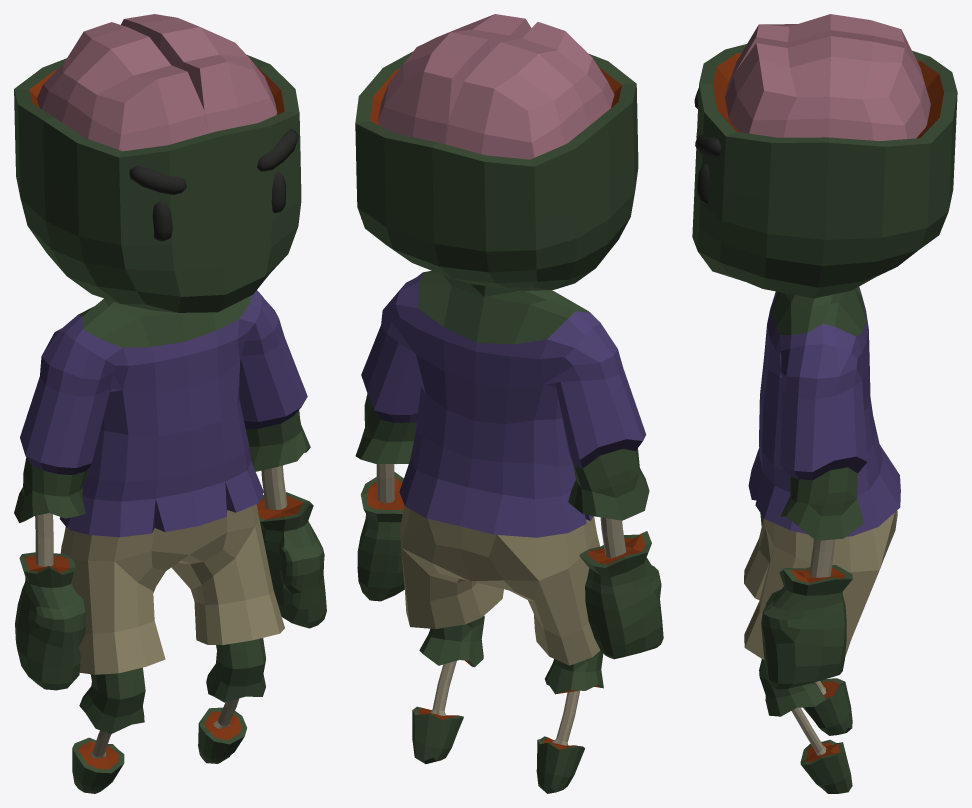
The model's file is Zombie_Male.glb.
3 views of the same model, side by side, from view 1: azimuth 30°, elevation 25°; view 2: azimuth 150°, elevation 25°; view 3: azimuth 270°, elevation 25° (orthographic).
Parts seen in each view (by area): view 1: Body_Cube.004; view 2: Body_Cube.004; view 3: Body_Cube.004.
Part boxes in pixels (x1,y1,x2,y2): Body_Cube.004: (14, 14, 326, 793); Body_Cube.004: (355, 14, 663, 793); Body_Cube.004: (692, 14, 957, 793).
Size of the model in its own units: 1.29 by 3.06 by 1.01.
